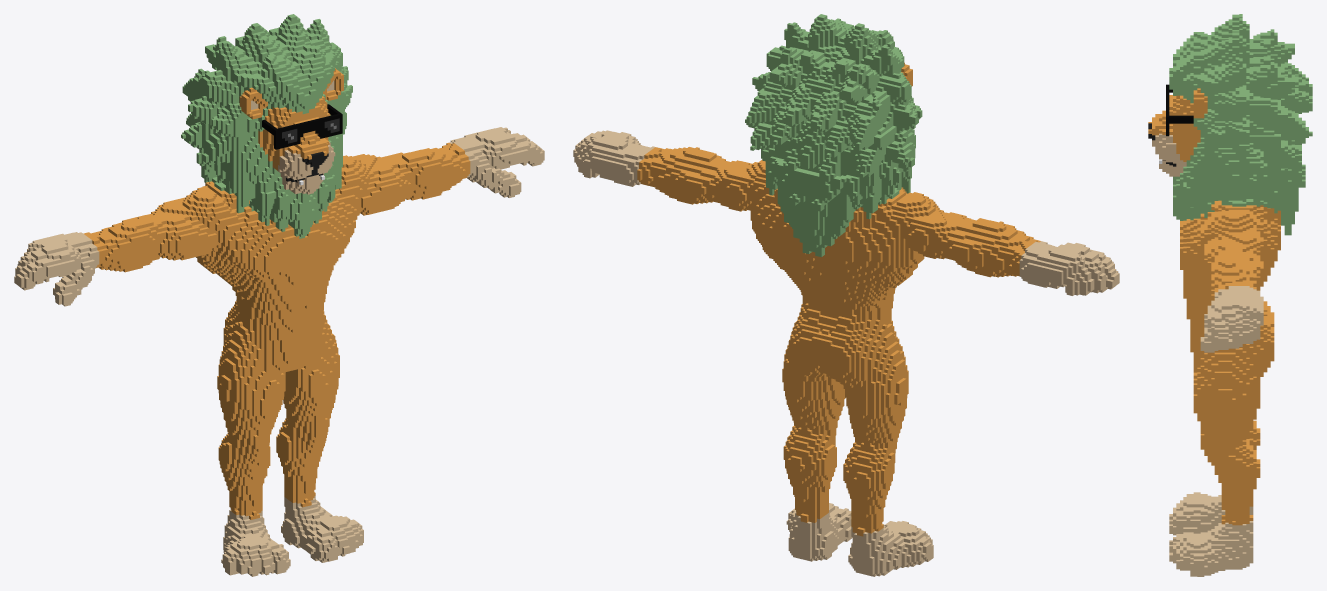
Rendered from 92-C6OWFlXD.glb.
The picture shows the model from 3 angles, left to right: view 1: azimuth 30°, elevation 25°; view 2: azimuth 150°, elevation 25°; view 3: azimuth 270°, elevation 25°; orthographic projection. The views are drawn at different scales.
Visible parts, largest first — view 1: standard; view 2: standard; view 3: standard.
Part boxes in pixels (<box>): standard: <box>14,14,544,576</box>; standard: <box>573,14,1119,576</box>; standard: <box>1148,14,1312,576</box>.
Size of the model in its own units: 17.2 by 16.5 by 4.7.
Materials: 4 (4 with a texture image).
